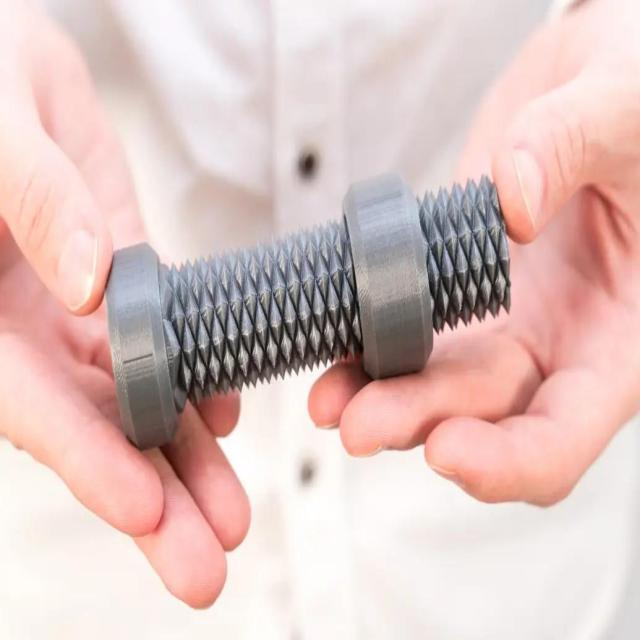Without deffect: (76, 146, 529, 455)
